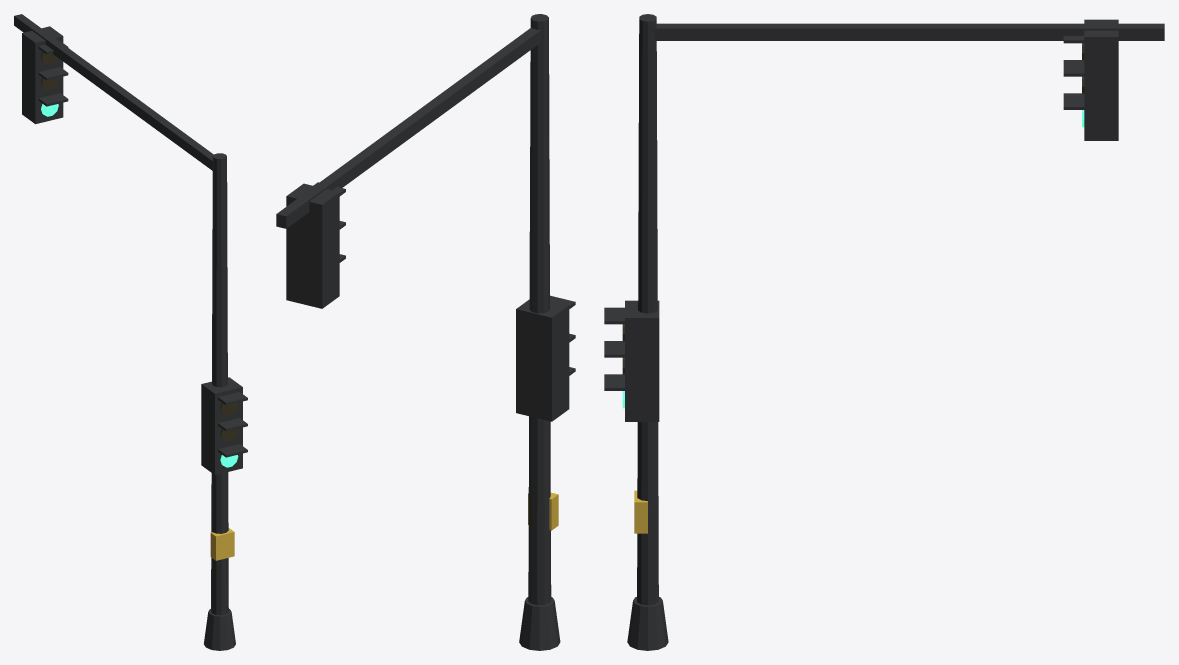
File: prop_traffic_light.gltf
3 views of the same model, side by side, from view 1: azimuth 30°, elevation 25°; view 2: azimuth 150°, elevation 25°; view 3: azimuth 270°, elevation 25° (orthographic). The views are drawn at different scales.
Parts seen in each view (by area): view 1: prop_traffic_light; view 2: prop_traffic_light; view 3: prop_traffic_light.
Boxes of the visible parts, box(x1,y1,x2,y2) form: prop_traffic_light: box(14, 14, 247, 650); prop_traffic_light: box(276, 14, 575, 650); prop_traffic_light: box(604, 14, 1164, 650).
Size of what is drawn, in the model's own units: 0.36 by 6 by 4.88.
